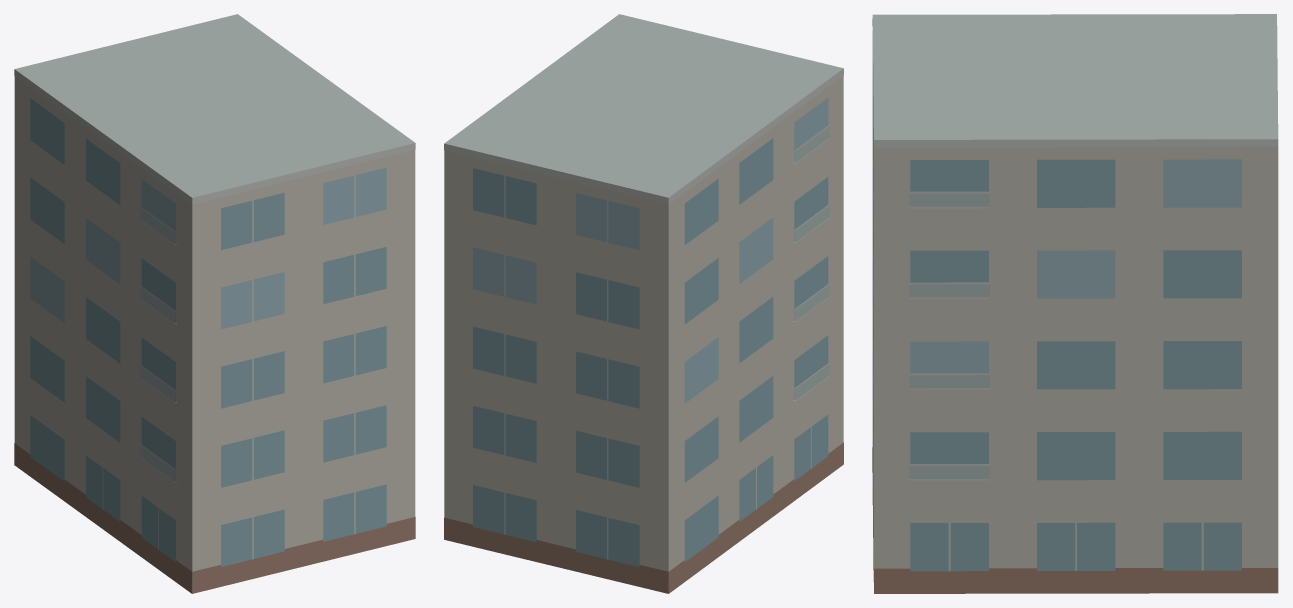
File: survey-upis-32870345.glb
3 views of the same model, side by side, from view 1: azimuth 30°, elevation 25°; view 2: azimuth 150°, elevation 25°; view 3: azimuth 270°, elevation 25° (orthographic). The views are drawn at different scales.
Parts seen in each view (by area): view 1: survey-upis-32870345.tmp; view 2: survey-upis-32870345.tmp; view 3: survey-upis-32870345.tmp.
Part boxes in pixels (bbox=[...]): survey-upis-32870345.tmp: bbox=[14, 14, 415, 593]; survey-upis-32870345.tmp: bbox=[444, 14, 843, 593]; survey-upis-32870345.tmp: bbox=[872, 14, 1278, 593].
Bounding box in the file's own units: 8.43 × 14.1 × 11.43.
